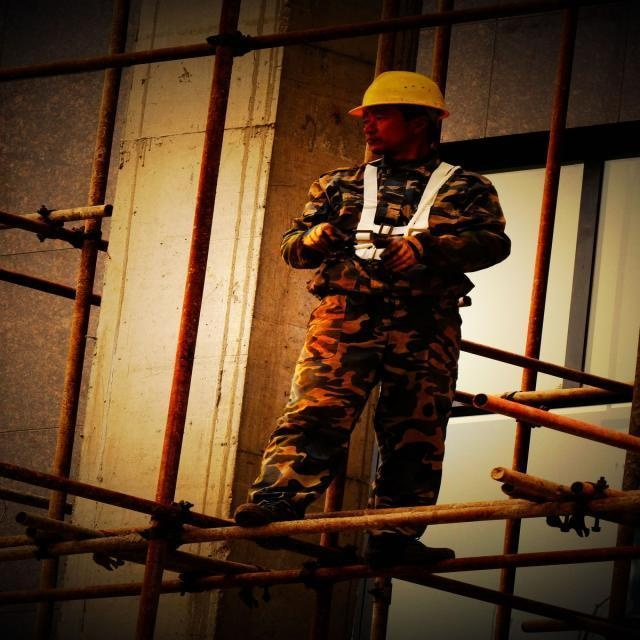Arnes_seguridad: (340, 153, 470, 266)
